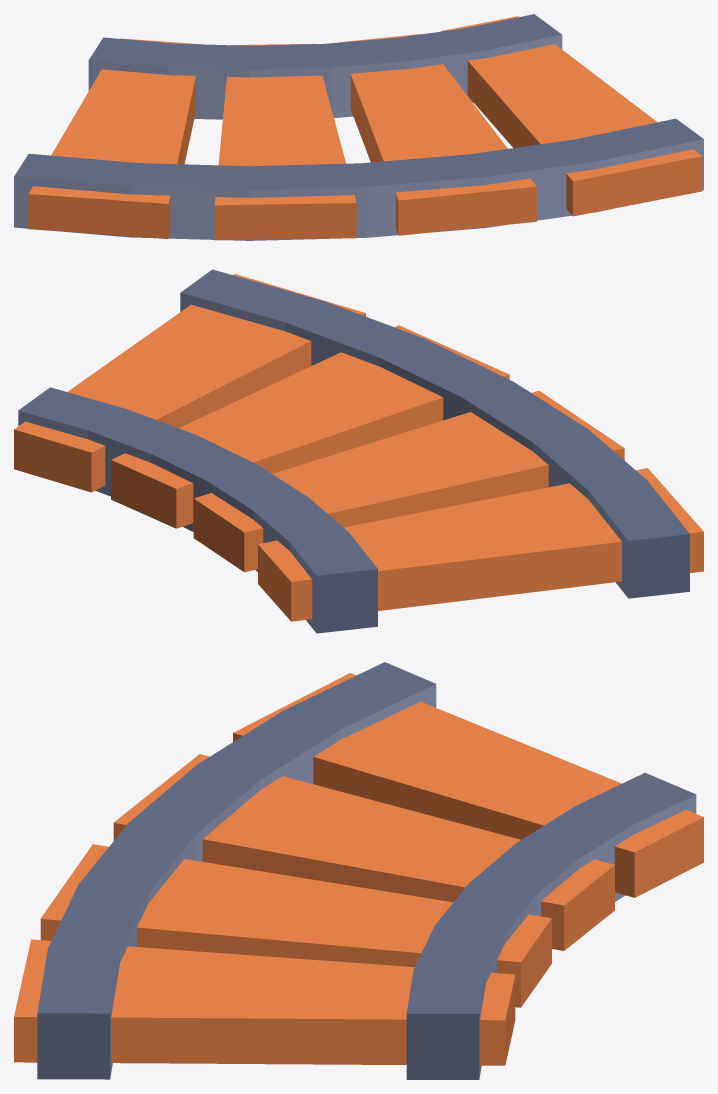
Rendered from Rail003.fbx.
3 views of the same model, one above another, from view 1: azimuth 30°, elevation 25°; view 2: azimuth 150°, elevation 25°; view 3: azimuth 270°, elevation 25° (orthographic). The views are drawn at different scales.
Parts seen in each view (by area): view 1: Rail003; view 2: Rail003; view 3: Rail003.
Boxes of the visible parts, <box> form: Rail003: <box>14,14,703,240</box>; Rail003: <box>14,269,703,633</box>; Rail003: <box>14,662,703,1079</box>.
Bounding box in the file's own units: 242 × 21.11 × 200.
